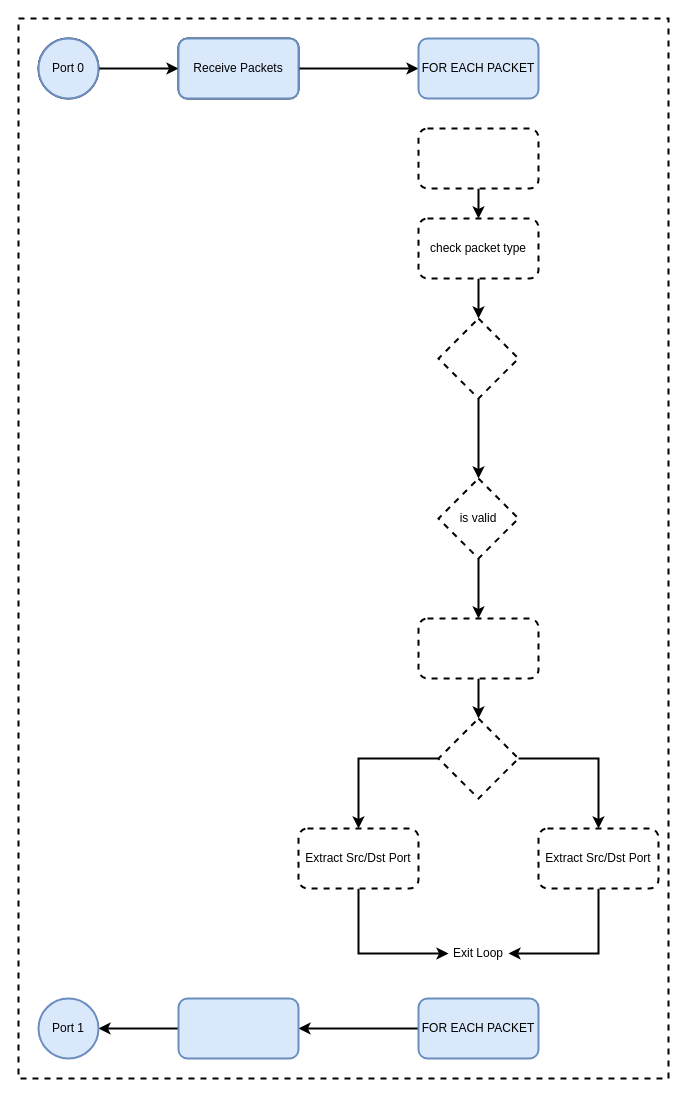
Some shapes in this 686 by 1096 pixel diagram are drawn without their labels. Each missing label, with the box of its shape:
extract MAC addresses: (417, 127, 539, 189)
Extract Src/Dst IPv4 Address: (417, 617, 539, 679)
is_ipv4: (437, 317, 519, 399)
next layer?: (437, 717, 519, 799)
Transmit Packet: (177, 997, 299, 1059)
